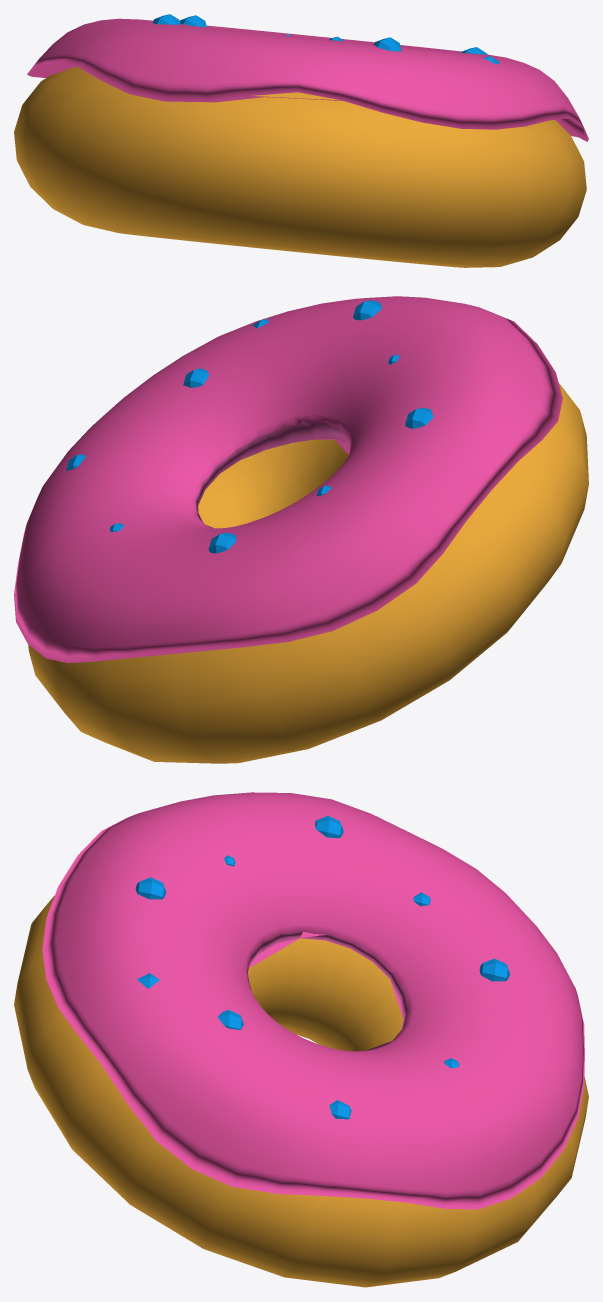
File: DonutEngland.fbx
3 renders of one model, top to bottom at view 1: azimuth 30°, elevation 25°; view 2: azimuth 150°, elevation 25°; view 3: azimuth 270°, elevation 25°, orthographic. The views are drawn at different scales.
Parts seen in each view (by area): view 1: Sphere.006; view 2: Sphere.006; view 3: Sphere.006.
Part boxes in pixels (x1,y1,x2,y2): Sphere.006: [14, 14, 588, 267]; Sphere.006: [14, 296, 588, 763]; Sphere.006: [14, 792, 588, 1287].
Size of the model in its own units: 382 by 250 by 375.
